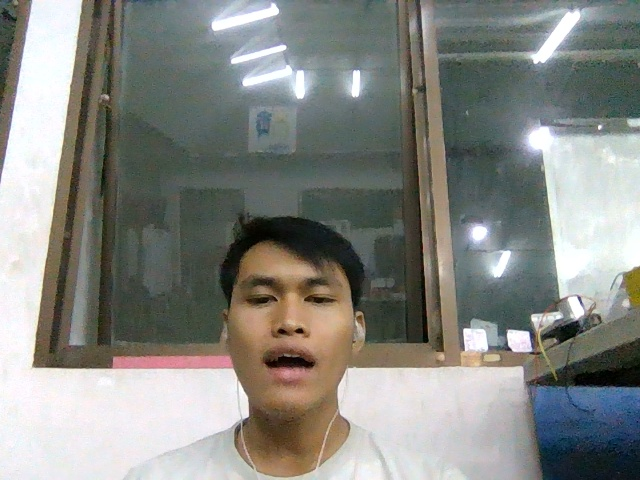mask_off: (227, 317, 350, 414)
